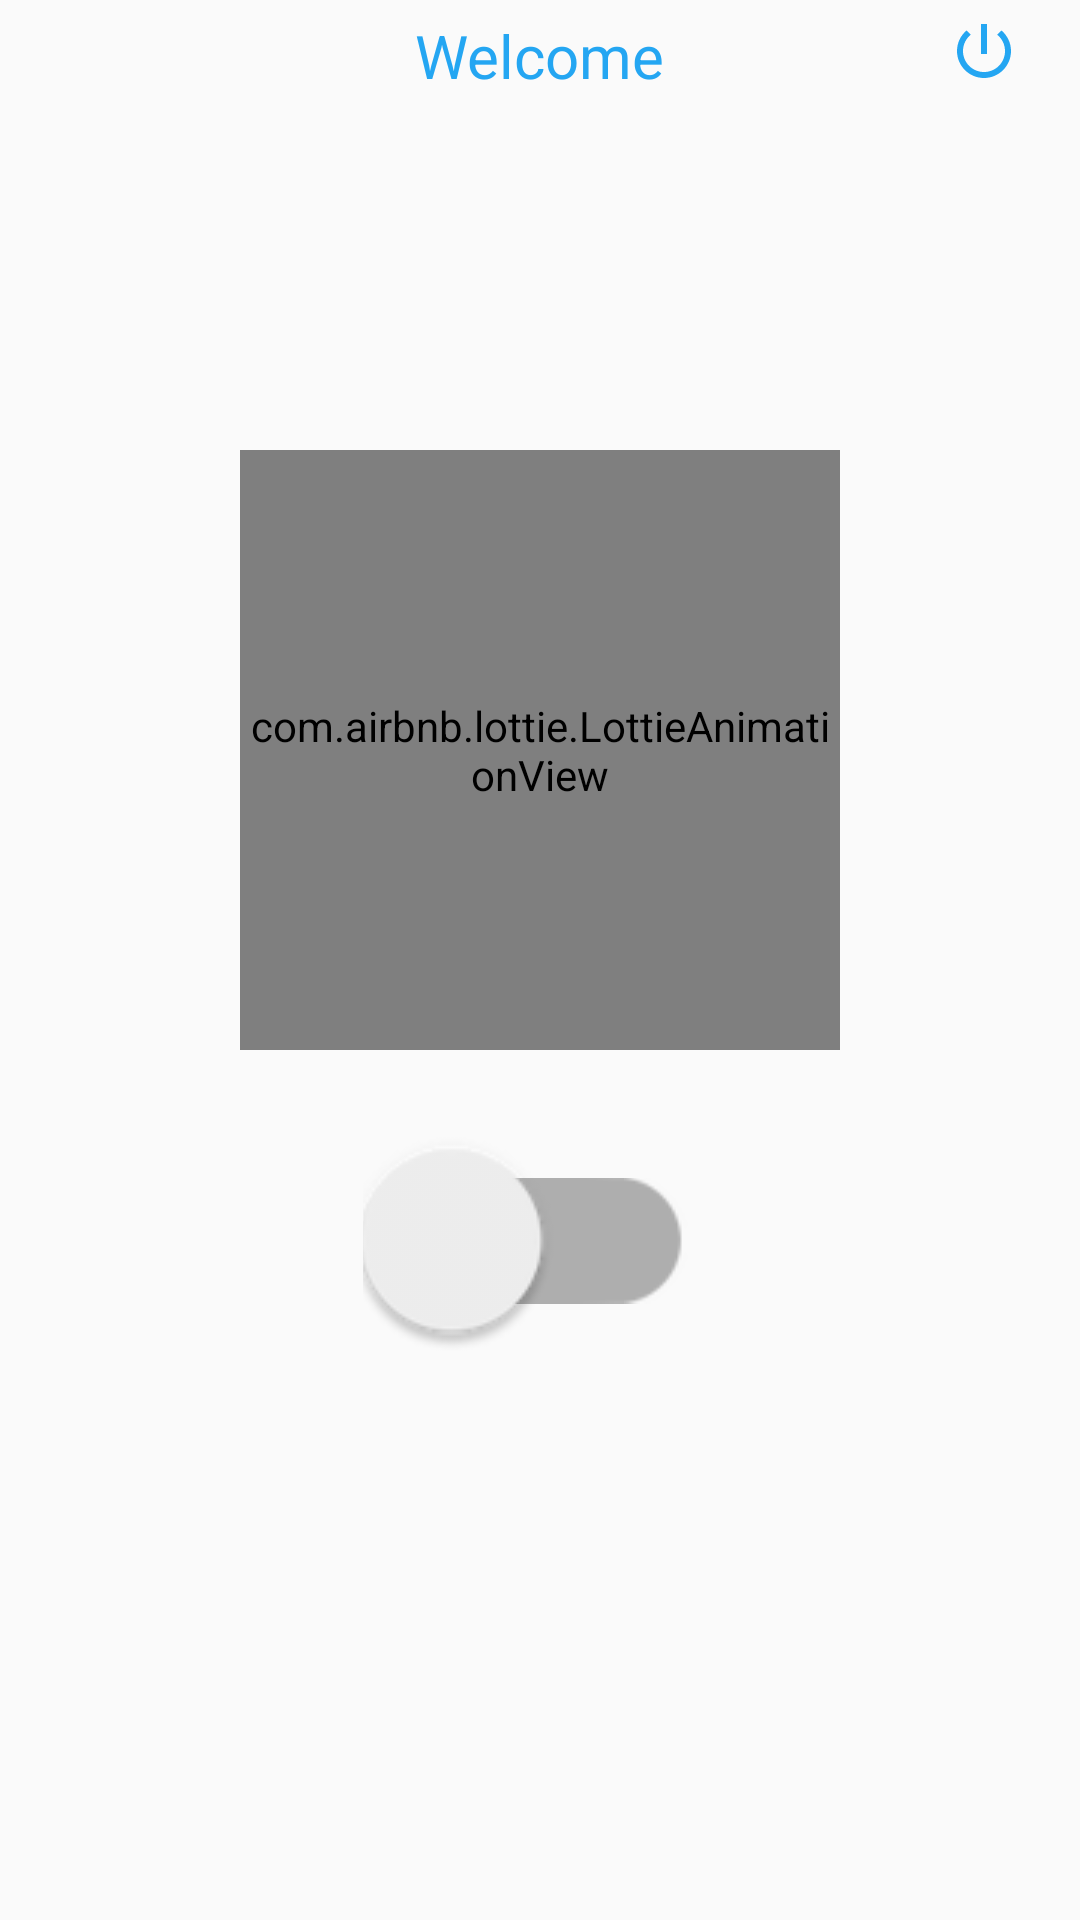

Locate icon controls on the screen. Image size 1080*1920, boxes as {"x1": x1, "y1": y1, "x2": x2, "y2": y2}.
power settings: {"x1": 957, "y1": 24, "x2": 1011, "y2": 78}
